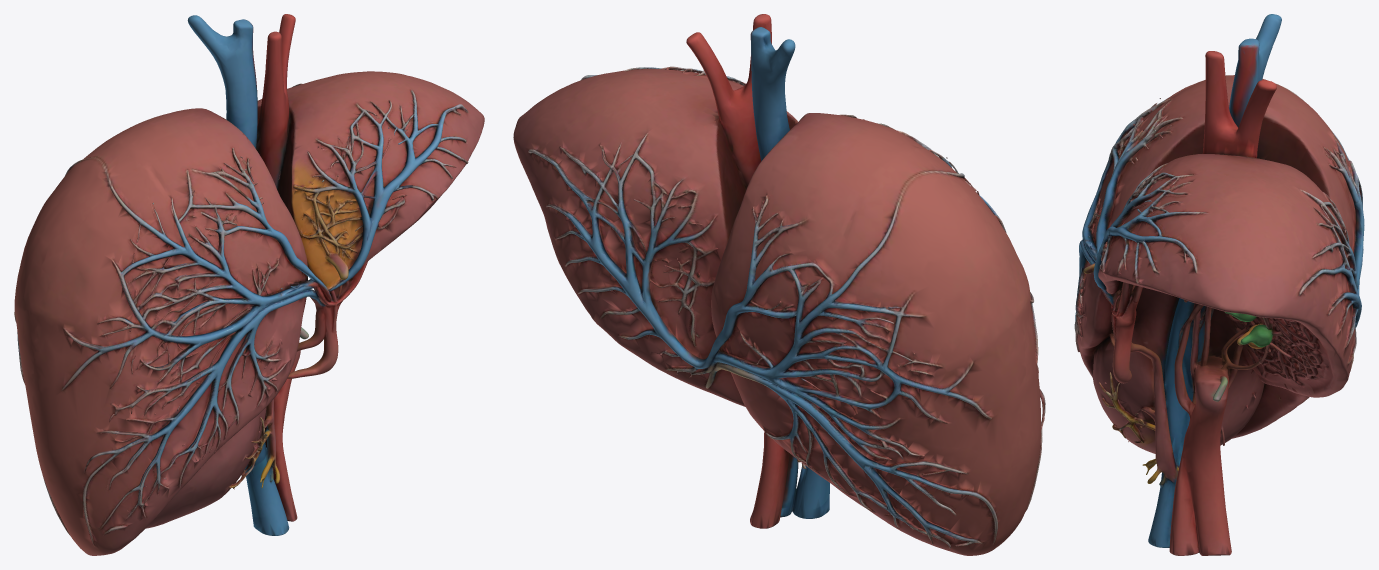
The model's file is organ-liver-interactive-lod.glb.
The picture shows the model from 3 angles, left to right: view 1: azimuth 30°, elevation 25°; view 2: azimuth 150°, elevation 25°; view 3: azimuth 270°, elevation 25°; orthographic projection. The views are drawn at different scales.
Visible parts, largest first — view 1: tripo_node_1c7e641c-603f-41bd-b81d-f90f99063845; view 2: tripo_node_1c7e641c-603f-41bd-b81d-f90f99063845; view 3: tripo_node_1c7e641c-603f-41bd-b81d-f90f99063845.
Boxes of the visible parts, <box> form: tripo_node_1c7e641c-603f-41bd-b81d-f90f99063845: <box>14,14,484,555</box>; tripo_node_1c7e641c-603f-41bd-b81d-f90f99063845: <box>513,14,1045,555</box>; tripo_node_1c7e641c-603f-41bd-b81d-f90f99063845: <box>1074,14,1364,555</box>.
Size of the model in its own units: 32543 by 32763 by 16788.
Materials: 1 (1 with a texture image).
